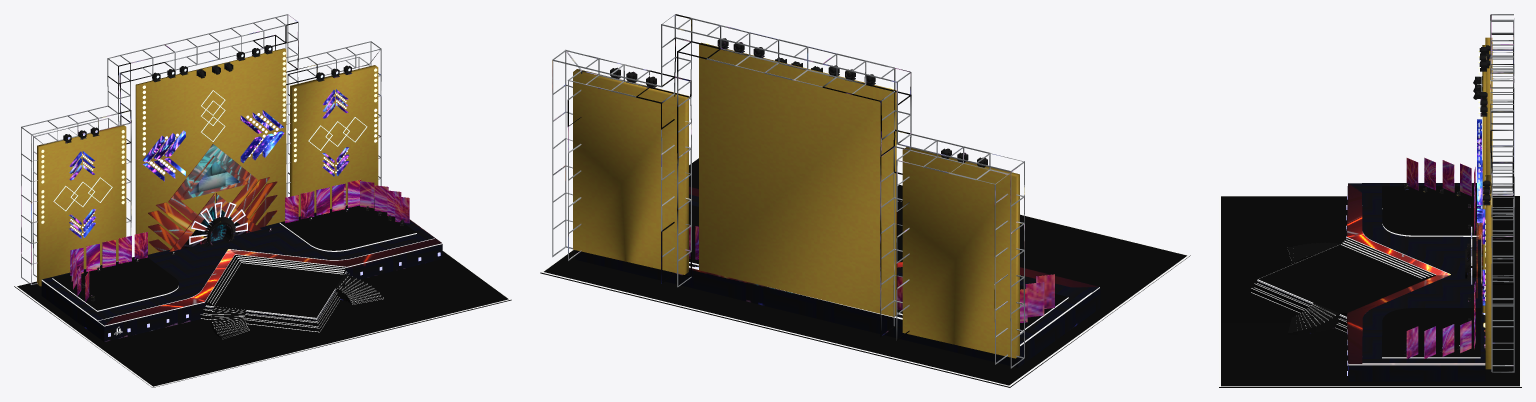
File: Dhingia Builds 19 Size 3x2 Event Space.glb
3 views of the same model, side by side, from view 1: azimuth 30°, elevation 25°; view 2: azimuth 150°, elevation 25°; view 3: azimuth 270°, elevation 25° (orthographic). The views are drawn at different scales.
Visible parts, largest first — view 1: Main Building, Background, Ground, Stairs, Stairs Big; view 2: Background, Main Building, Ground; view 3: Main Building, Ground, Background, Stairs, Stairs Big.
Part boxes in pixels (x1=…): Main Building: x1=21, y1=14, x2=442, y2=341; Background: x1=37, y1=48, x2=378, y2=286; Ground: x1=14, y1=249, x2=511, y2=387; Stairs: x1=211, y1=274, x2=383, y2=339; Stairs Big: x1=205, y1=255, x2=345, y2=305; Background: x1=573, y1=42, x2=1019, y2=358; Main Building: x1=552, y1=14, x2=1100, y2=368; Ground: x1=540, y1=156, x2=1190, y2=387; Main Building: x1=1251, y1=14, x2=1514, y2=381; Ground: x1=1219, y1=195, x2=1521, y2=387; Background: x1=1482, y1=37, x2=1492, y2=369; Stairs: x1=1287, y1=242, x2=1339, y2=334; Stairs Big: x1=1341, y1=238, x2=1435, y2=316.
Size of what is drawn, in the model's own units: 48 by 28.97 by 32.
4 materials, 2 textured.
